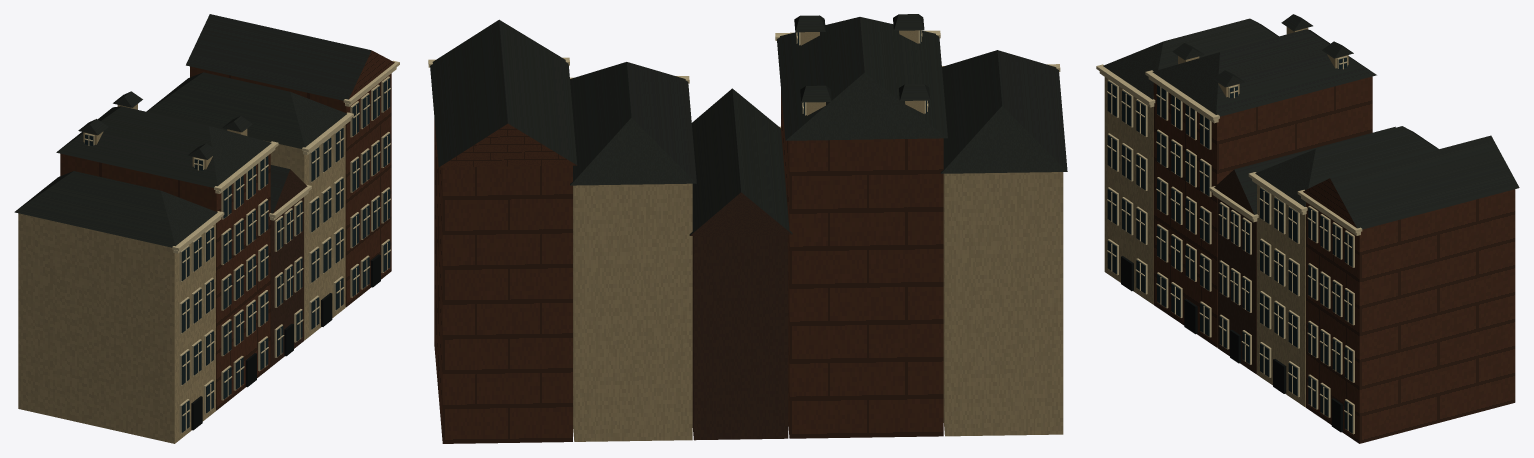
3 views of the same model, side by side, from view 1: azimuth 30°, elevation 25°; view 2: azimuth 150°, elevation 25°; view 3: azimuth 270°, elevation 25° (orthographic). The views are drawn at different scales.
Visible parts, largest first — view 1: haringvliet-west-0, haringvliet-west-1, haringvliet-west-5, haringvliet-west-3, haringvliet-west-2, haringvliet-west-6, haringvliet-west-4; view 2: haringvliet-west-5, haringvliet-west-1, haringvliet-west-0, haringvliet-west-6; view 3: haringvliet-west-5, haringvliet-west-1, haringvliet-west-3, haringvliet-west-2, haringvliet-west-0, haringvliet-west-6, haringvliet-west-4.
Part boxes in pixels (x1,y1,x2,y2): haringvliet-west-0: (18, 104, 345, 443); haringvliet-west-1: (14, 14, 371, 247); haringvliet-west-5: (60, 50, 394, 410); haringvliet-west-3: (85, 78, 390, 432); haringvliet-west-2: (84, 60, 399, 433); haringvliet-west-6: (270, 169, 307, 366); haringvliet-west-4: (191, 254, 380, 430); haringvliet-west-5: (434, 90, 943, 443); haringvliet-west-1: (430, 14, 1067, 235); haringvliet-west-0: (573, 30, 1063, 441); haringvliet-west-6: (690, 192, 792, 440); haringvliet-west-5: (1153, 76, 1515, 443); haringvliet-west-1: (1103, 14, 1519, 229); haringvliet-west-3: (1107, 57, 1352, 432); haringvliet-west-2: (1096, 56, 1362, 434); haringvliet-west-0: (1104, 27, 1348, 407); haringvliet-west-6: (1214, 169, 1256, 374); haringvliet-west-4: (1121, 256, 1342, 432).
Bounding box in the file's own units: 39.36 × 22.3 × 32.27.
7 materials, 7 textured.
